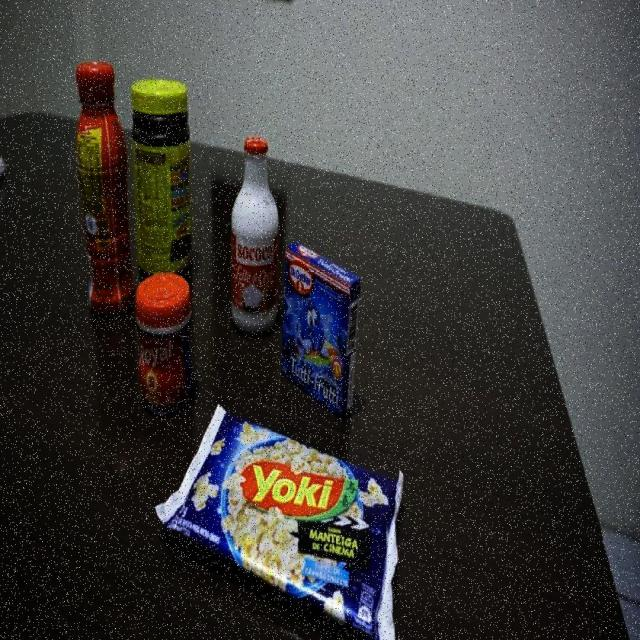ChocolateMilk: (76, 60, 135, 322)
ChocolatePowder: (131, 78, 194, 288)
CoconutMilk: (230, 134, 279, 339)
Gelatine: (281, 238, 364, 423)
Popcorn: (154, 403, 406, 640)
Yeast: (134, 272, 195, 417)
